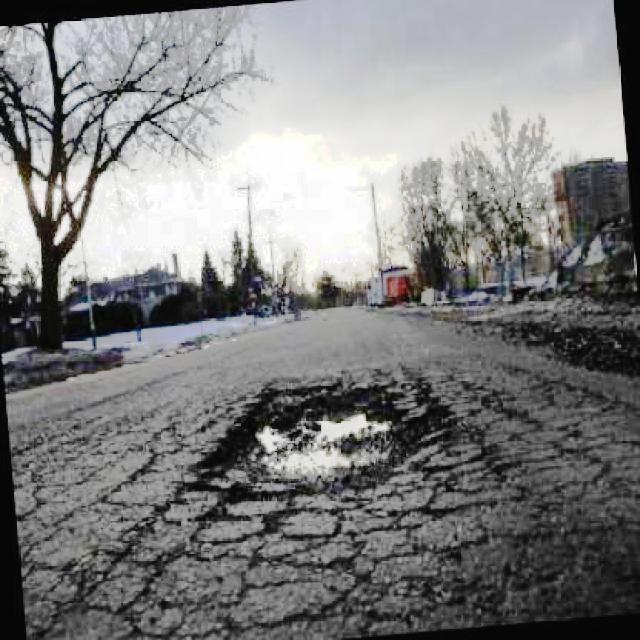pothole: (211, 381, 426, 494)
